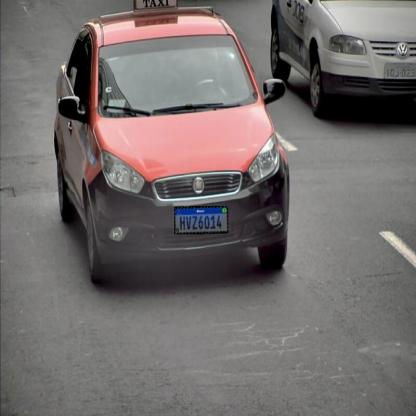PlacaM: (174, 206, 228, 234)
